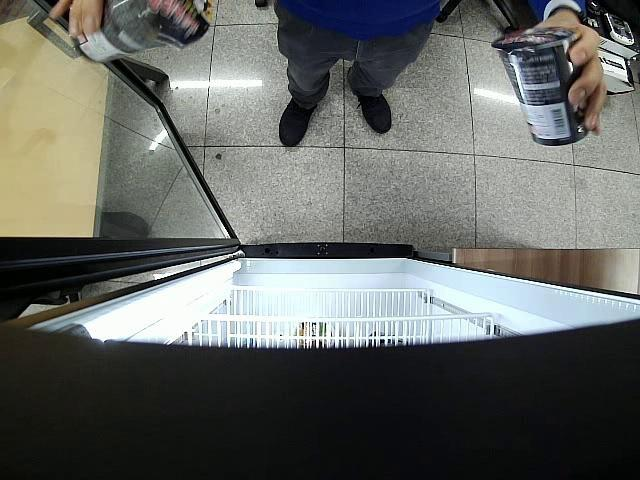08_buldak_S: (492, 28, 588, 146), (78, 0, 212, 61)
